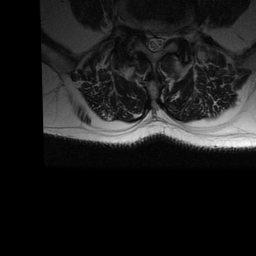CCS_normal: (152, 28, 158, 57)
LFS_stenosis: (167, 24, 175, 46)
LLS_normal: (159, 27, 167, 53)
RFS_severe_stenosis: (136, 21, 145, 44)
RLS_normal: (145, 27, 152, 50)
